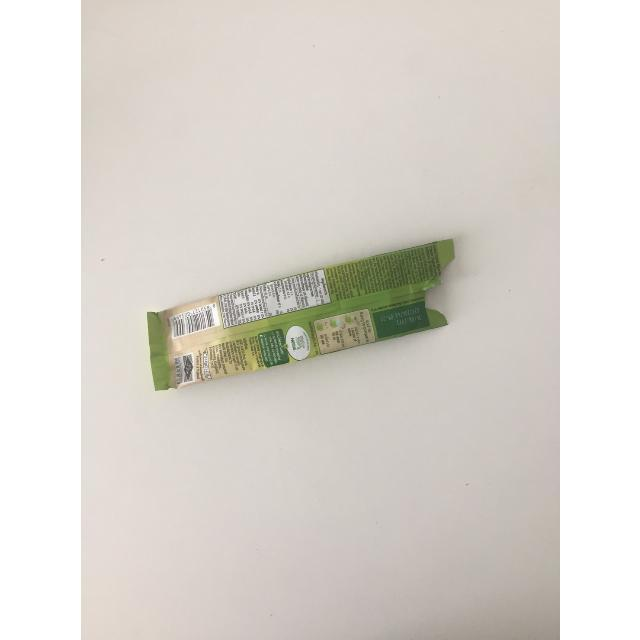Paquete de plastico: (132, 248, 466, 394)
